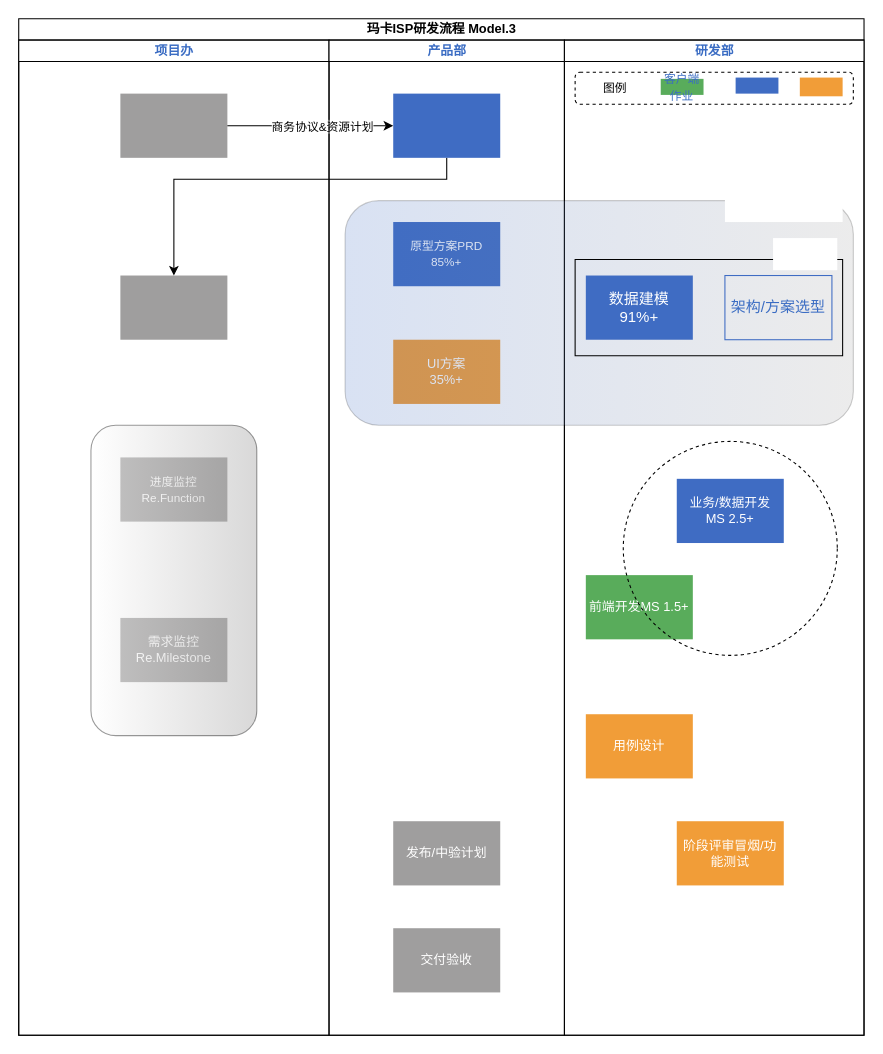
The diagram is 883 pixels wide and 1054 high, and some of its shapes have lost their labels. Each missing label, with the centre of its shape:
"业务立项" belongs at (x=173, y=125).
"原案提审" belongs at (x=446, y=125).
"技术方案" belongs at (x=805, y=254).
"综合项目方案" belongs at (x=783, y=200).
"项目启动" belongs at (x=173, y=307).
